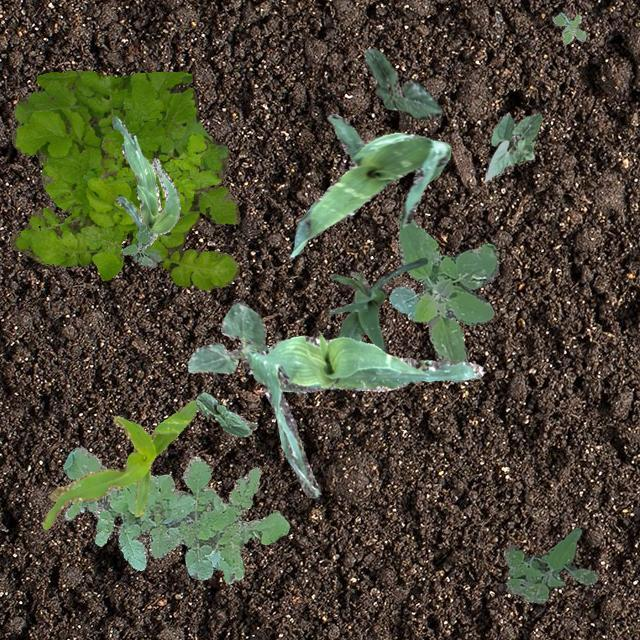crop: (250, 334, 482, 496), (288, 112, 451, 255), (41, 399, 198, 528), (187, 300, 306, 392), (112, 116, 178, 260), (328, 256, 427, 352), (362, 46, 442, 118), (482, 111, 540, 182), (195, 392, 248, 436)
weed: (8, 70, 238, 288), (62, 447, 288, 582), (388, 212, 498, 382), (100, 130, 220, 208), (502, 526, 596, 602), (120, 222, 160, 266), (552, 12, 586, 44), (231, 412, 257, 436)
